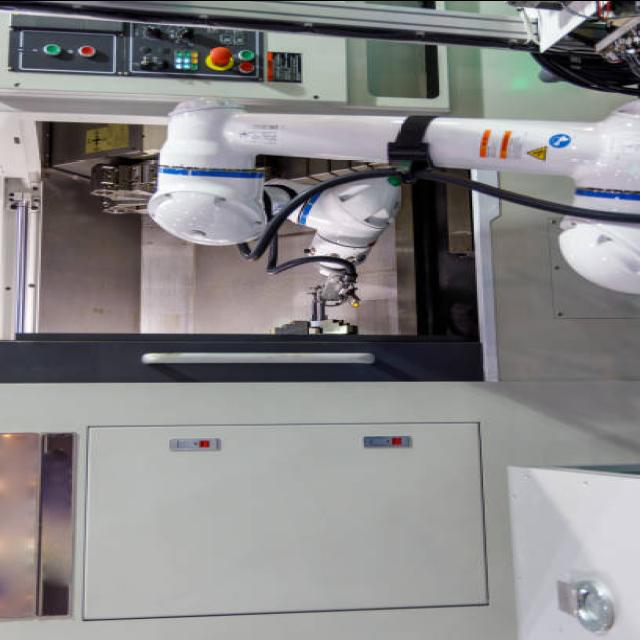Robotic-arm: (144, 89, 640, 302)
